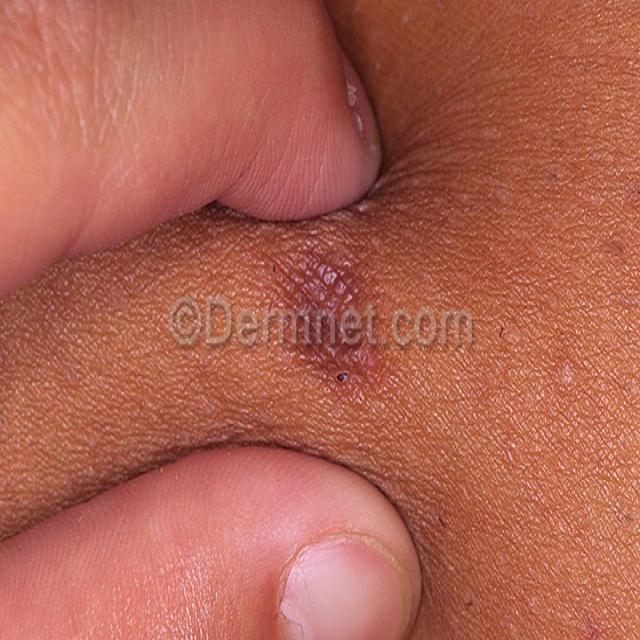Eczema: (268, 248, 396, 402)
